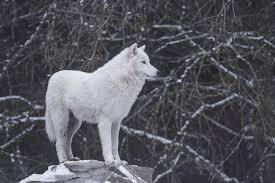Wolf: (44, 42, 162, 168)
